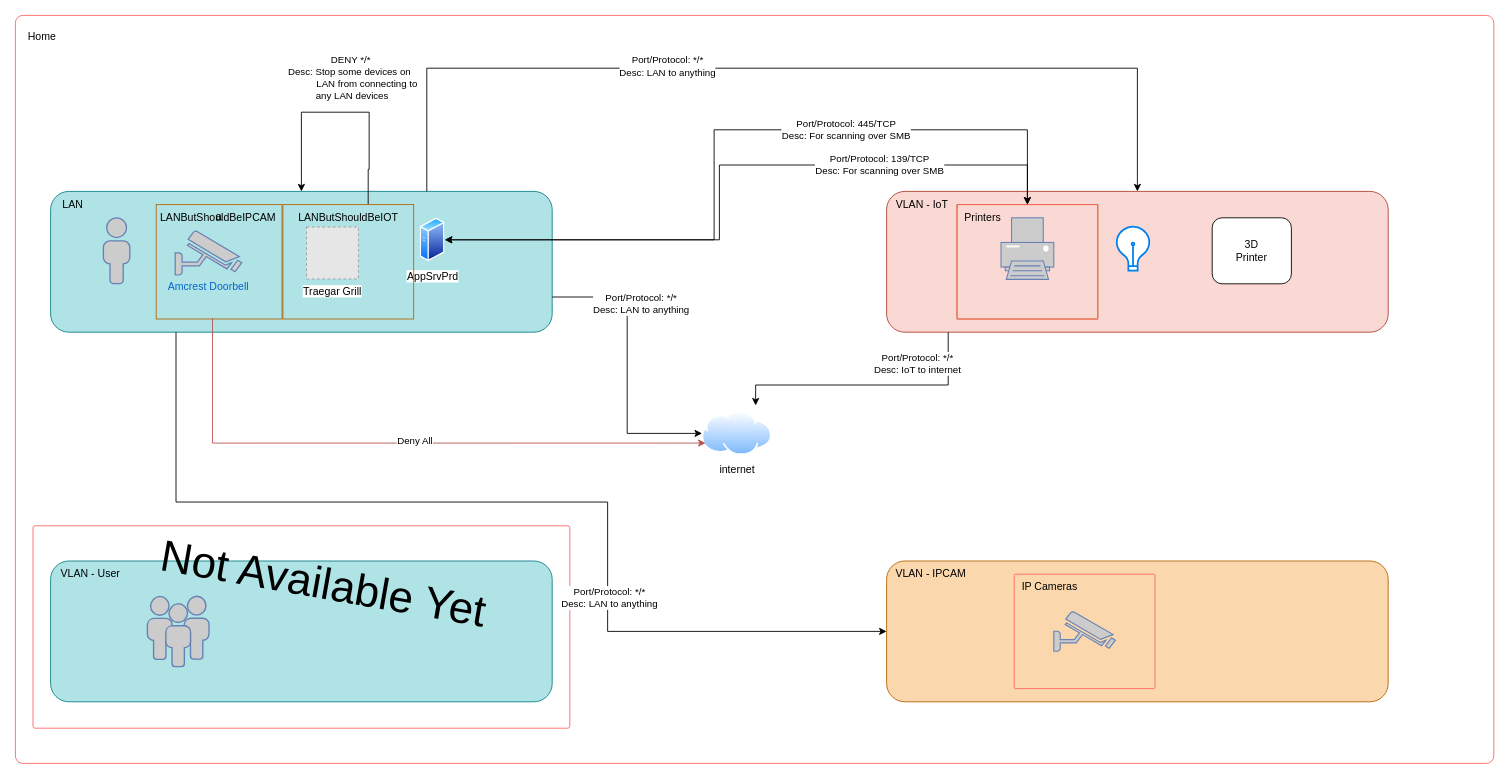
Image size: 1509x779. Some labels were removed from this diagram. Grey dashed boxes stand in for pictures. The shapes that lost their labels are listed below. From the top down, each one's centre as x and y in pixels, then its label:
At point (116, 250): "Nic".
At point (1027, 248): "HP Printer".
At point (1132, 248): "Hatch".
